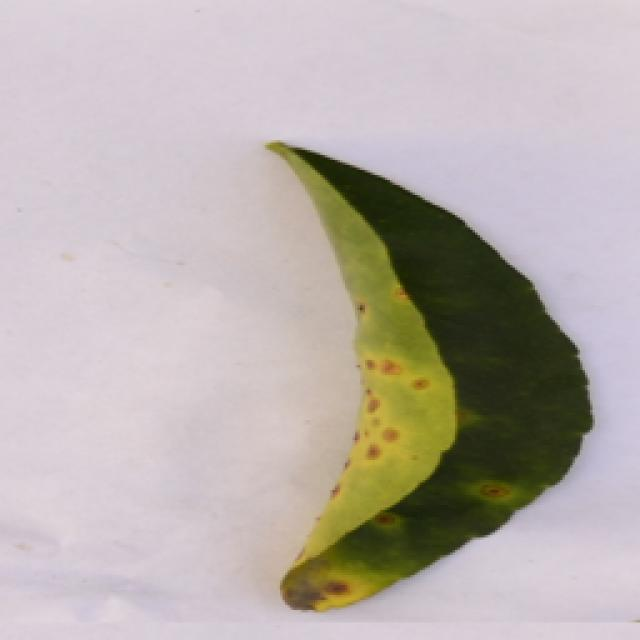canker: (262, 159, 584, 613)
